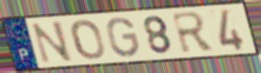4: (217, 7, 246, 52)
8: (142, 15, 174, 56)
G: (106, 16, 142, 59)
N: (29, 19, 75, 65)
O: (70, 18, 107, 61)
R: (170, 10, 218, 55)
